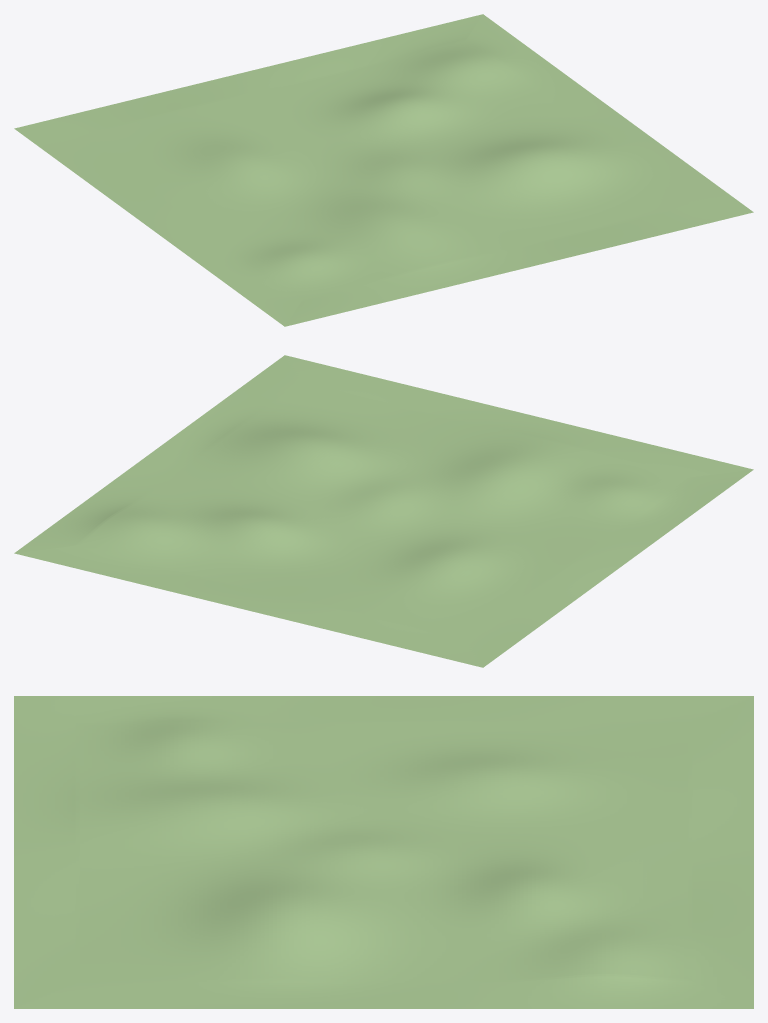
File: Empty_Rolling_Plain.glb
3 views of the same model, one above another, from view 1: azimuth 30°, elevation 25°; view 2: azimuth 150°, elevation 25°; view 3: azimuth 270°, elevation 25° (orthographic). The views are drawn at different scales.
Visible parts, largest first — view 1: RollingPlain; view 2: RollingPlain; view 3: RollingPlain.
Part boxes in pixels (bbox=[...]): RollingPlain: bbox=[14, 14, 753, 326]; RollingPlain: bbox=[14, 355, 753, 667]; RollingPlain: bbox=[14, 696, 753, 1008].
Size of the model in its own units: 140 by 3.92 by 140.
